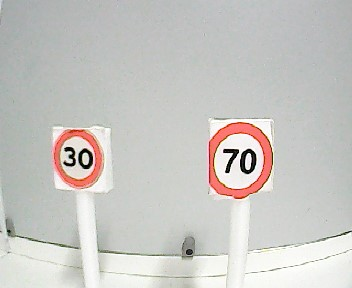30-bord: (53, 127, 105, 189)
70-bord: (209, 123, 272, 198)
